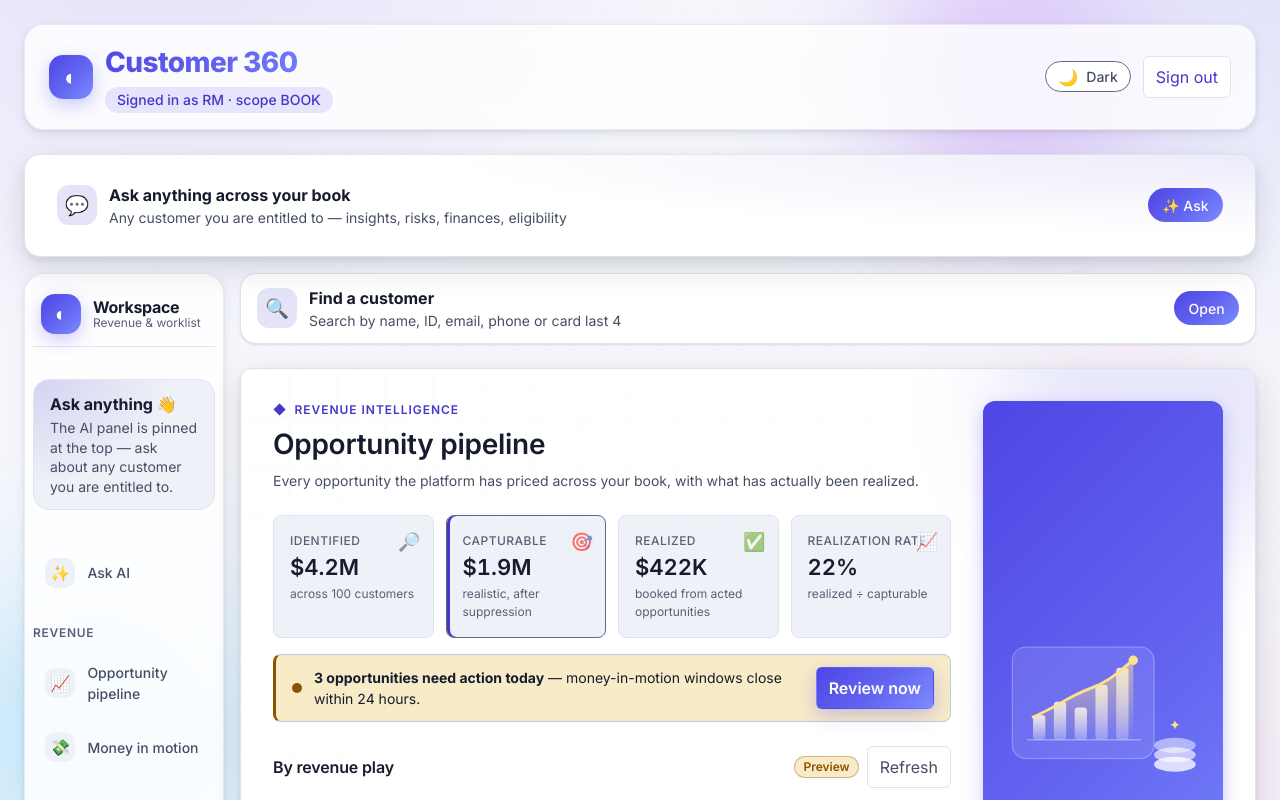
SearchPage — left navigation rail › pins the universal Ask panel outside the rail, collapsed, and expands it on click
This screenshot has width=1280, height=800.
expect the element with id "landing-ask" is shown: met, box [24,154,1256,257]
expect the field labelled "Your question" is not shown: met
// Clicking it opens the full panel — the level-2 title and the composer appear.
Step 1. Click the button "Ask anything across your book" → {"x": 77, "y": 205}, box [41,171,1239,240]
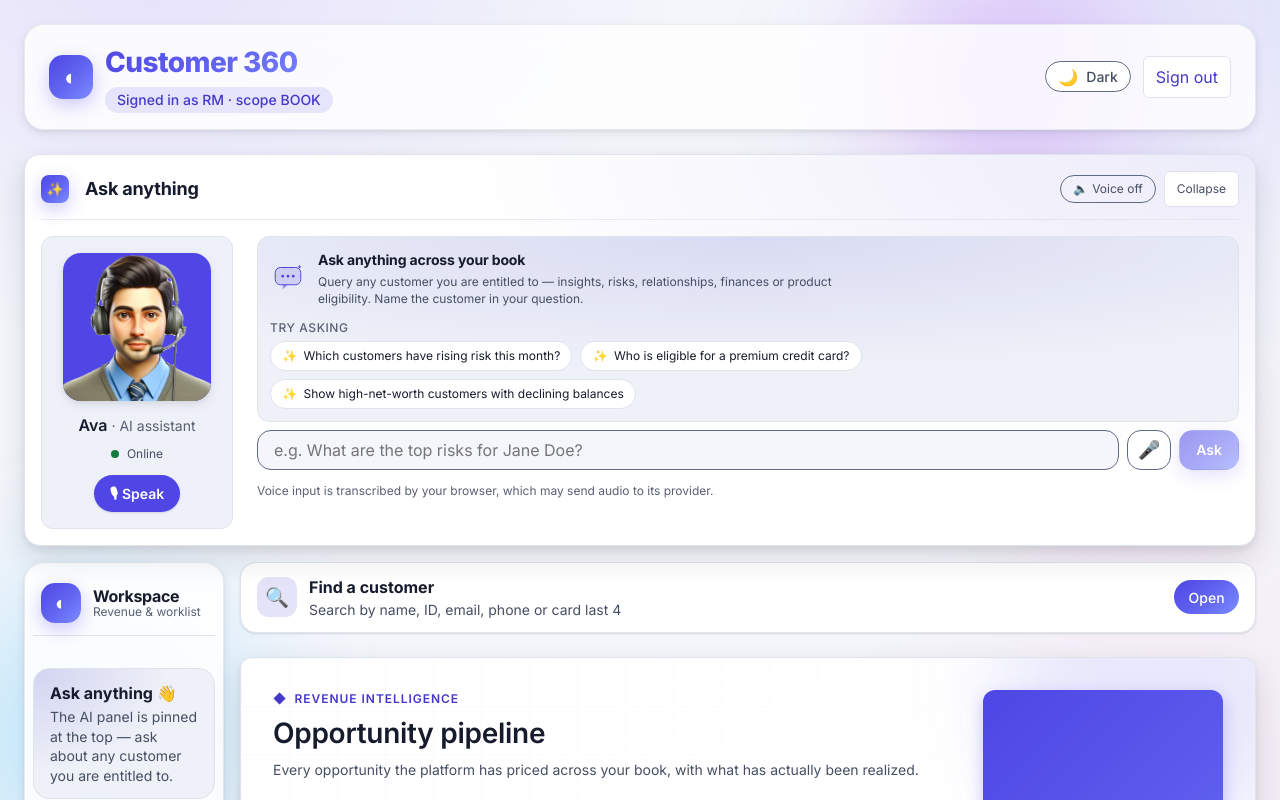
expect the heading "Ask anything" is shown: met, box [85,178,199,199]
expect the field named "Your question" is shown: met, box [257,430,1119,470]
// And it can be collapsed again, back to the launcher.
Step 2. Click the button "Collapse" → {"x": 1201, "y": 189}, box [1164,171,1239,207]
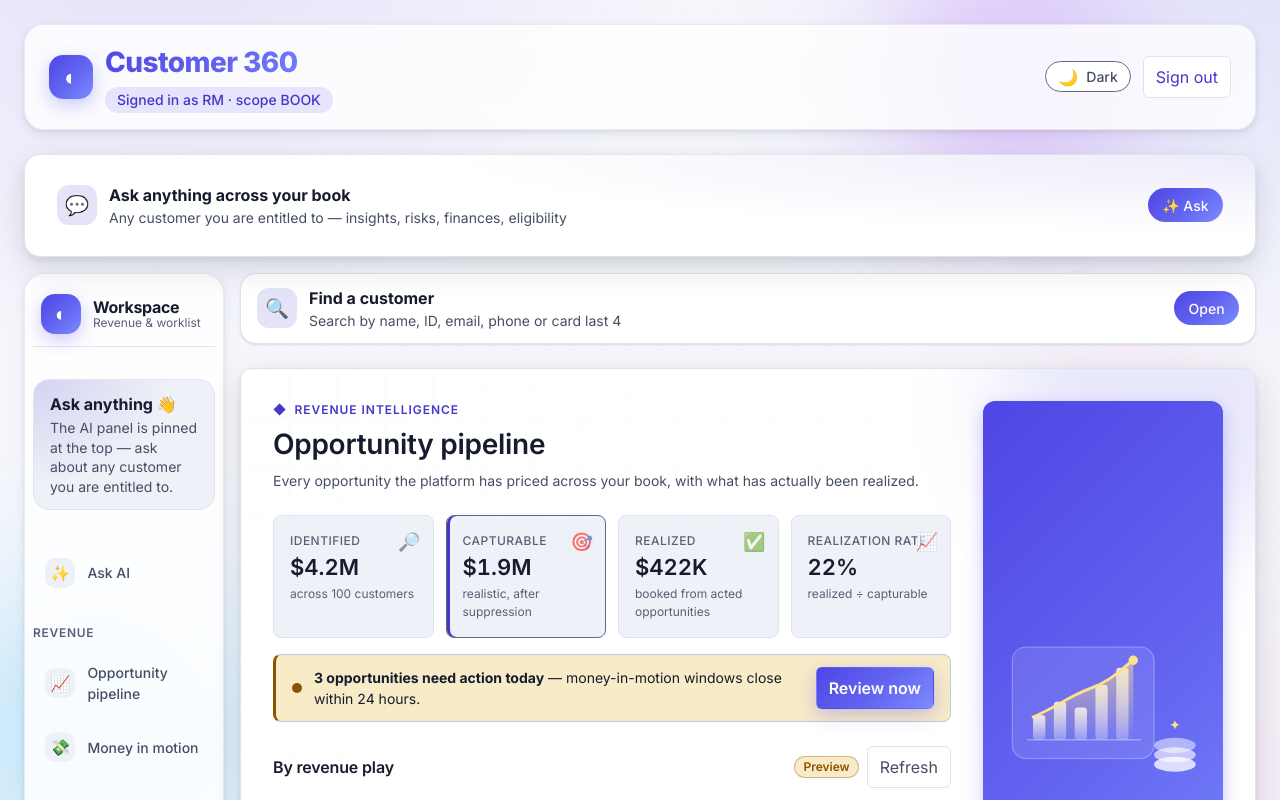
expect the button "Ask anything across your book" is shown: met, box [41,171,1239,240]
